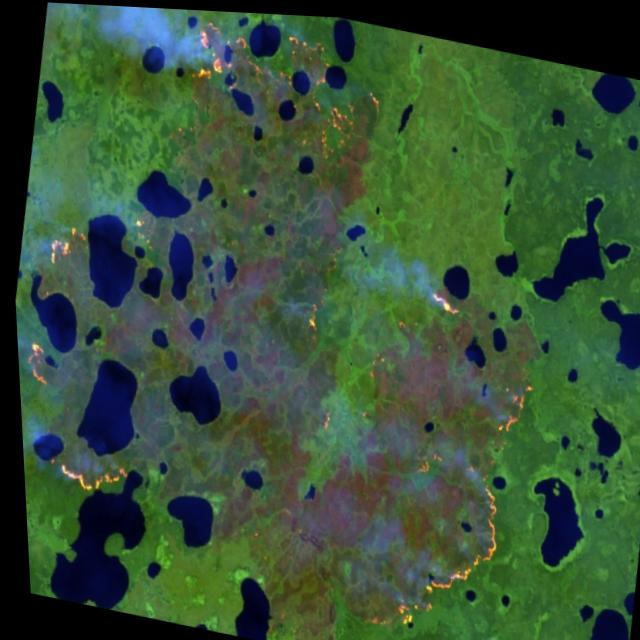fire: (344, 270, 563, 640), (264, 11, 414, 392), (148, 6, 323, 190), (28, 193, 107, 283), (35, 438, 128, 507), (14, 332, 54, 396)
